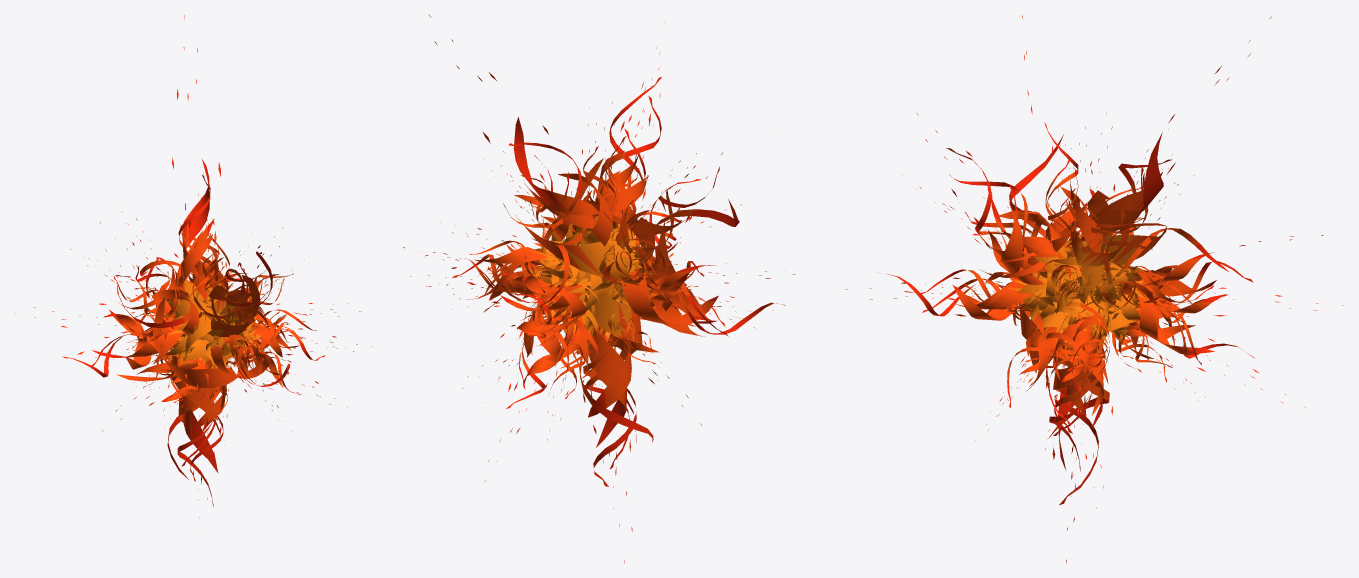
The model's file is fireball_07.obj.
3 renders of one model, left to right at view 1: azimuth 30°, elevation 25°; view 2: azimuth 150°, elevation 25°; view 3: azimuth 270°, elevation 25°, orthographic. The views are drawn at different scales.
Parts seen in each view (by area): view 1: Fireball; view 2: Fireball; view 3: Fireball.
Boxes of the visible parts, bbox=[...] form: Fireball: bbox=[15, 15, 371, 517]; Fireball: bbox=[403, 14, 795, 563]; Fireball: bbox=[845, 15, 1343, 563].
Bounding box in the file's own units: 1.72 × 2.3 × 1.76.
